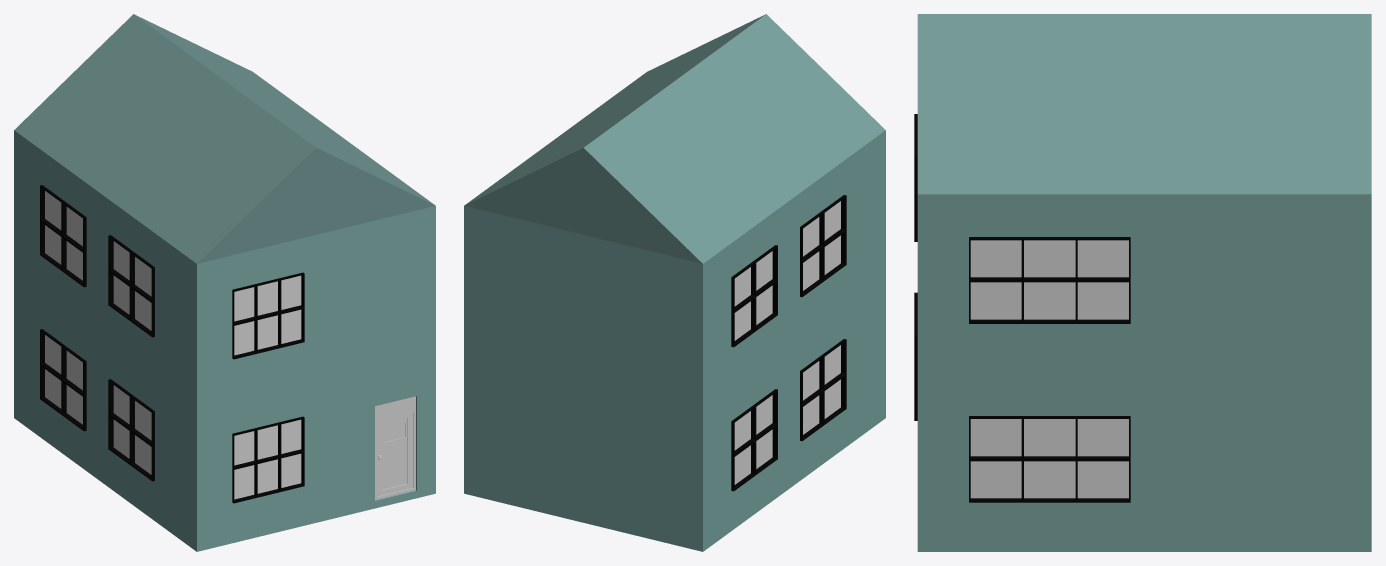
Rendered from House_28.fbx.
3 views of the same model, side by side, from view 1: azimuth 30°, elevation 25°; view 2: azimuth 150°, elevation 25°; view 3: azimuth 270°, elevation 25° (orthographic). The views are drawn at different scales.
Visible parts, largest first — view 1: House_28_Body; view 2: House_28_Body; view 3: House_28_Body.
Part boxes in pixels (x1,y1,x2,y2): House_28_Body: (14,14,435,551); House_28_Body: (464,14,885,551); House_28_Body: (914,14,1371,551).
Size of the model in its own units: 597 by 878 by 781.
